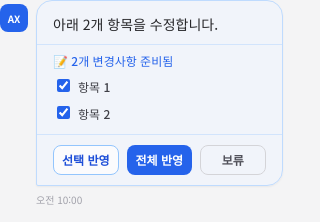
MessageBubble — patch_plan 말풍선 › [happy] 반영 성공 후 액션 UI가 사라진다
Click the button "전체 반영": click(159, 160) [126, 145, 192, 175]
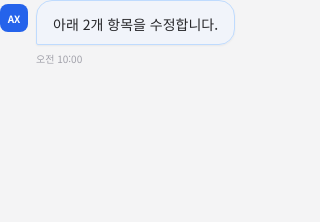
Now the button "전체 반영" is gone
Now the button "선택 반영" is gone
Now the button "보류" is gone
